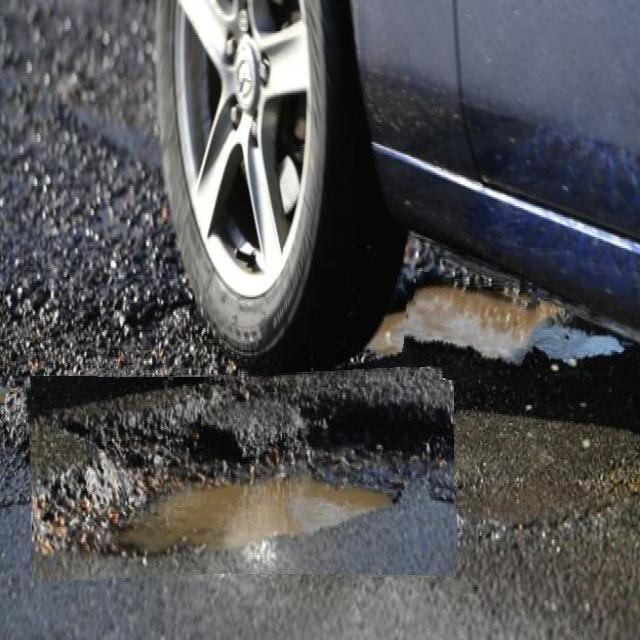Pothole: (29, 371, 456, 577), (404, 278, 537, 380)
